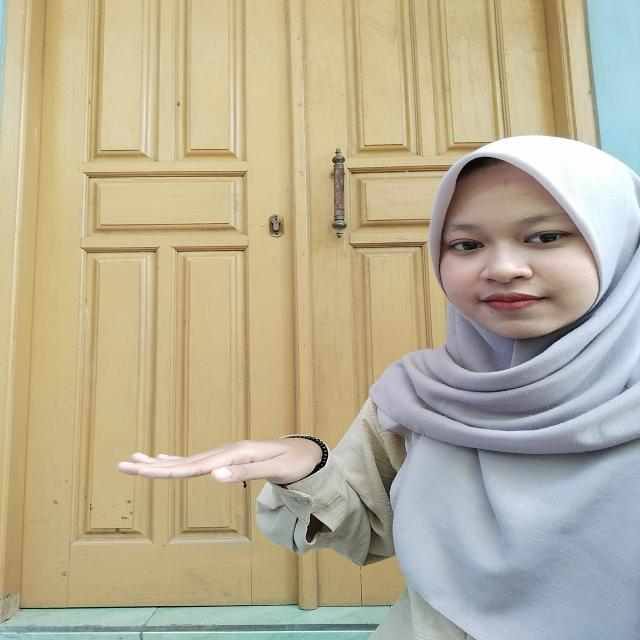adik: (98, 421, 360, 522)
